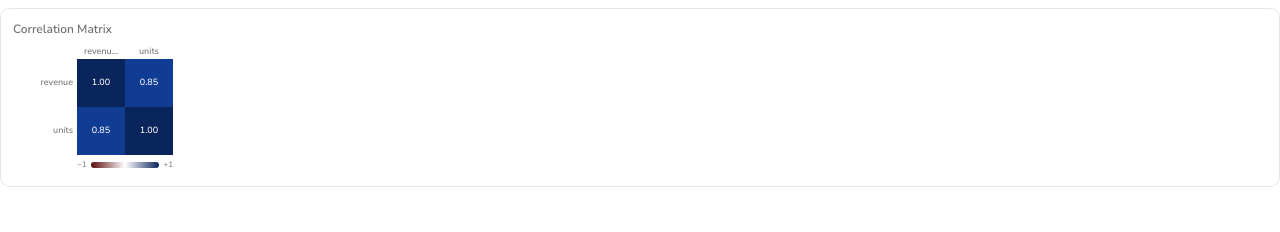
HeatmapChart interactivity › deselects cell on second click
Click the button titled "revenue × units: 0.850" in the row of "revenue" at coordinates (149, 82), box [125, 58, 173, 106]
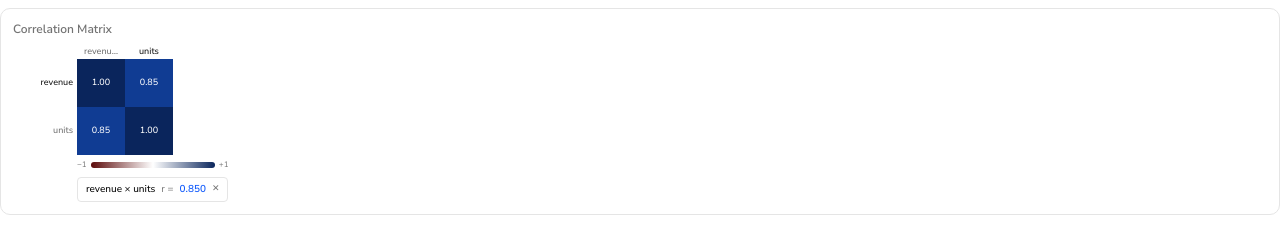
Expected: the text "0.850" is shown, [180, 182, 206, 196]
Click again to deselect
Click the 1st button titled "revenue × units: 0.850" at coordinates (149, 82), box [125, 58, 173, 106]
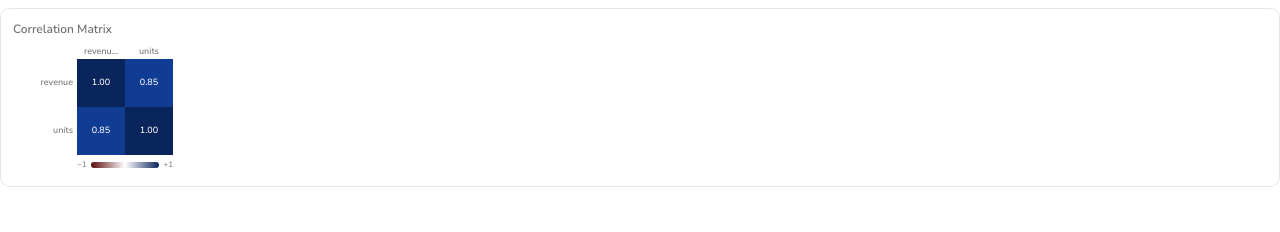
Expected: the text "0.850" is gone
